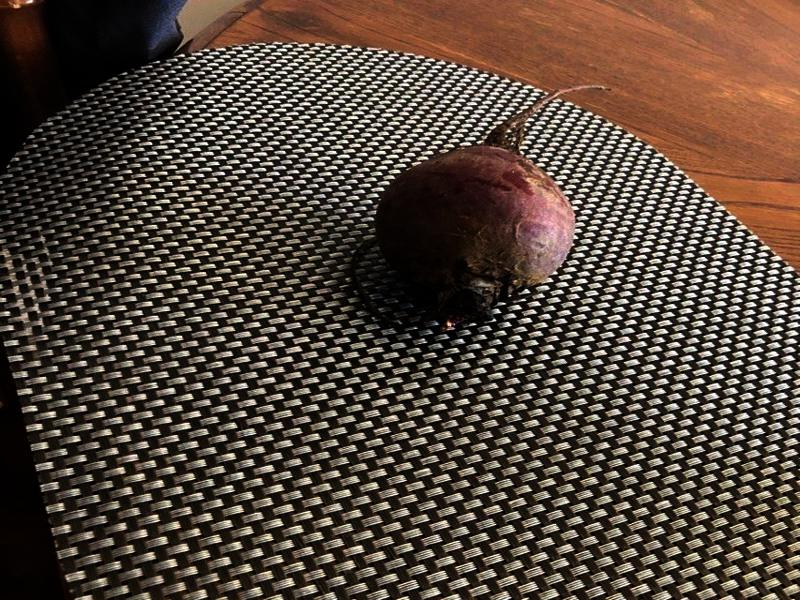Beet: (348, 84, 608, 330)
